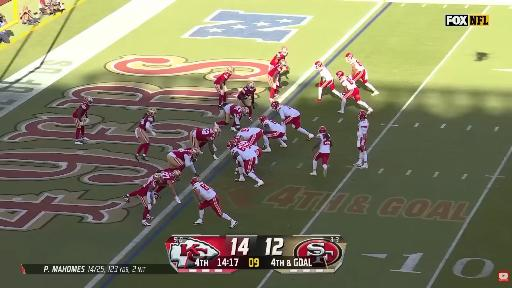Helmet: (153, 173, 163, 183), (358, 110, 367, 121), (191, 148, 200, 158), (172, 170, 181, 180), (227, 140, 236, 149), (84, 96, 93, 105), (240, 107, 249, 116), (212, 127, 221, 135), (234, 136, 242, 145), (247, 81, 255, 90), (259, 115, 267, 124), (147, 108, 157, 115), (271, 102, 279, 110), (336, 71, 344, 79), (279, 59, 286, 67), (315, 61, 322, 69), (191, 177, 198, 185), (346, 53, 352, 62), (281, 46, 287, 55), (227, 67, 234, 74), (319, 126, 326, 133), (234, 134, 237, 137)
Jersey: (193, 183, 216, 200), (232, 144, 256, 160), (237, 127, 261, 140), (278, 105, 299, 119), (263, 119, 285, 132), (195, 128, 215, 141), (73, 103, 90, 118), (225, 104, 242, 119), (317, 134, 330, 153), (142, 176, 158, 191), (139, 115, 154, 131), (340, 76, 357, 90), (172, 149, 191, 161), (270, 52, 285, 66), (238, 87, 255, 99), (239, 140, 259, 150), (358, 119, 369, 137), (160, 172, 175, 185), (350, 58, 364, 71), (268, 64, 282, 77), (319, 67, 333, 80), (215, 72, 230, 84)
Player: (191, 178, 237, 228), (124, 173, 163, 225), (227, 140, 263, 186), (271, 102, 314, 140), (336, 71, 373, 114), (346, 53, 378, 95), (135, 108, 157, 161), (259, 115, 287, 152), (315, 61, 340, 102), (311, 126, 331, 176), (190, 127, 221, 159), (73, 96, 93, 144), (167, 148, 199, 176), (216, 104, 249, 131), (155, 169, 181, 203), (354, 111, 369, 168), (214, 67, 234, 109), (268, 59, 287, 101), (234, 135, 262, 163), (237, 81, 255, 122), (235, 128, 263, 145), (269, 47, 287, 70)
